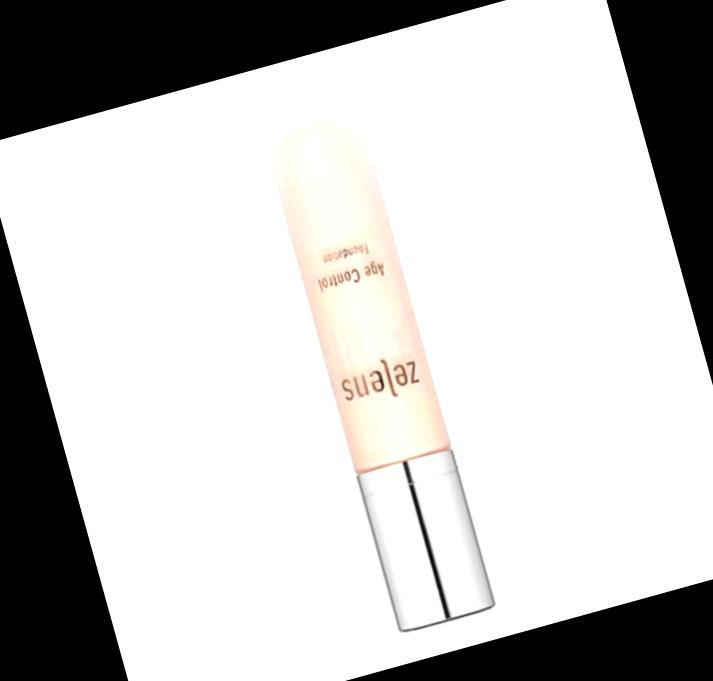cosmetic: (246, 65, 498, 637)
